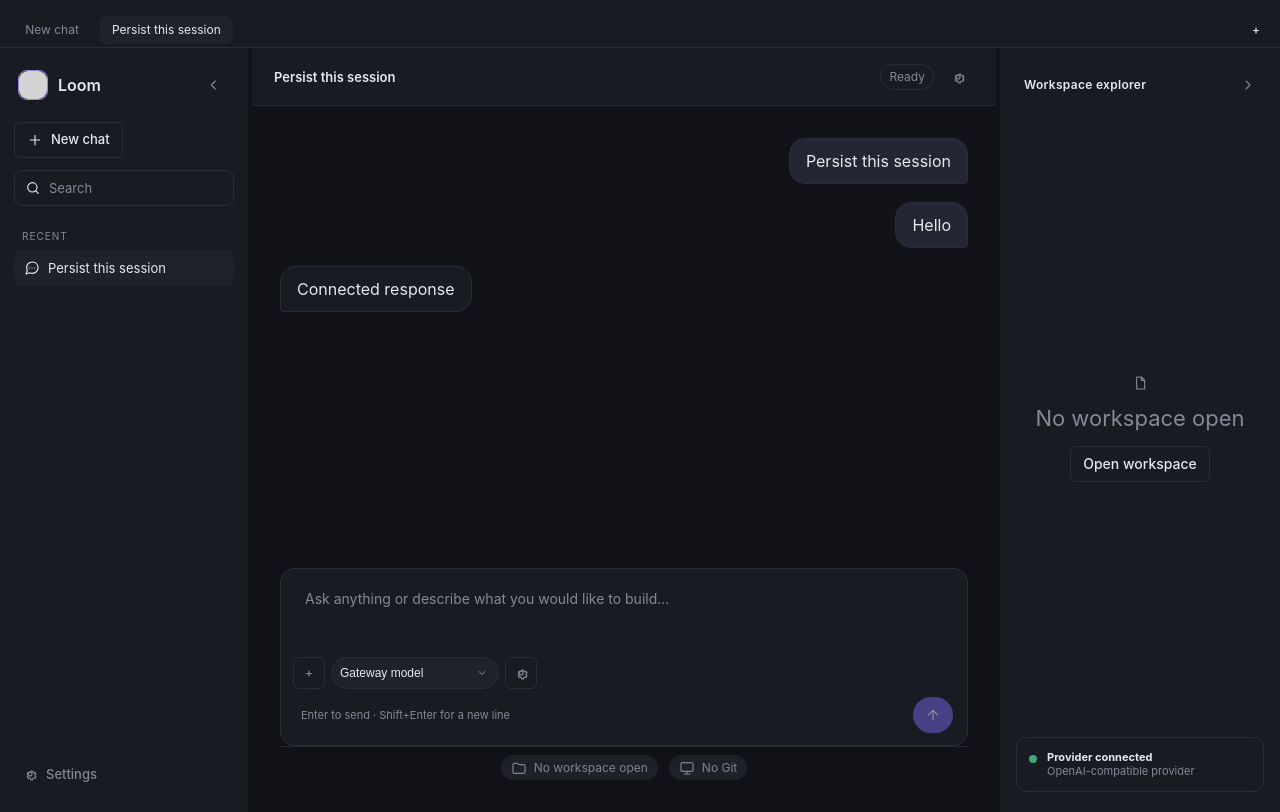
Scenario: MainUI testing › shows a failed run in the active session context
The width and height of the screenshot is (1280, 812).
Expected: the element "Workspace explorer" shows "Provider connected", [1047,750,1152,764]
Type "Try a request" into the text box named "Message Loom" at x=624, y=613, box [293,581,955,645]
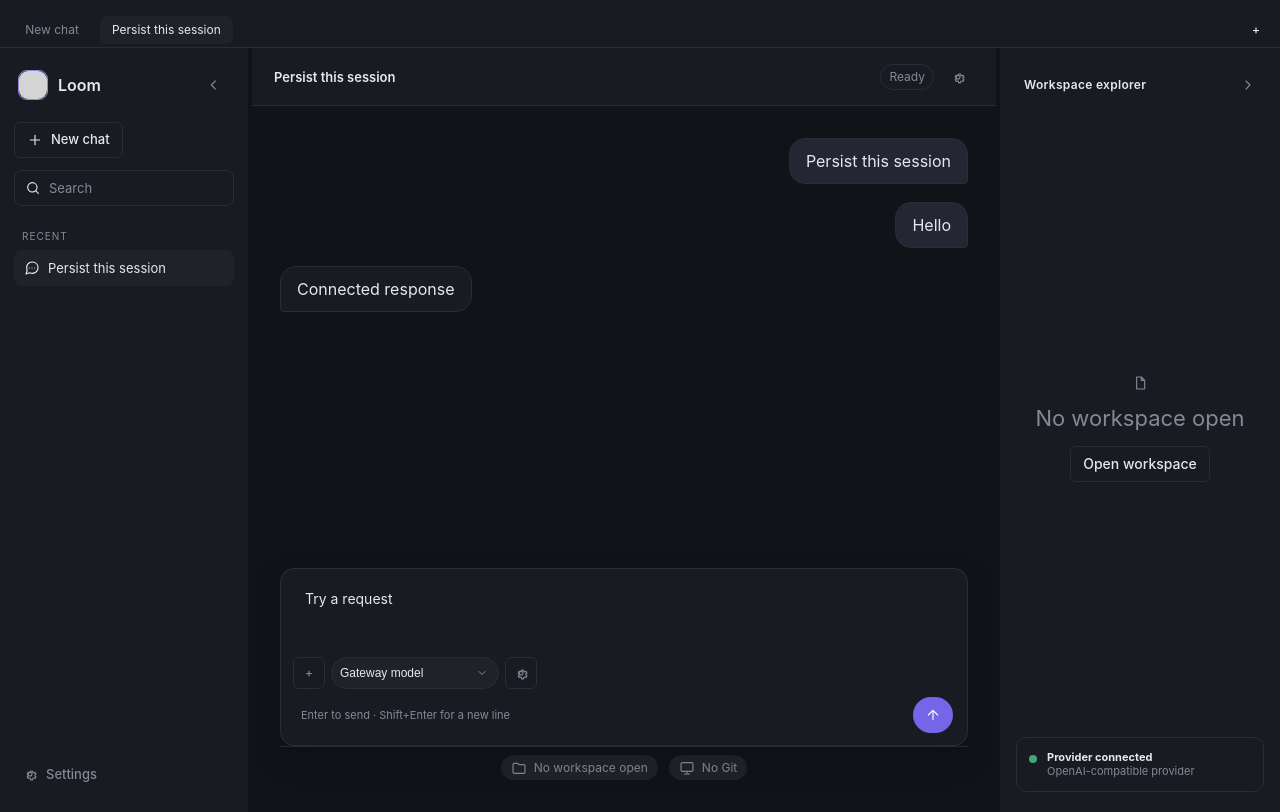
Click the button named "Send message" at x=933, y=715, box [913,697,953,733]
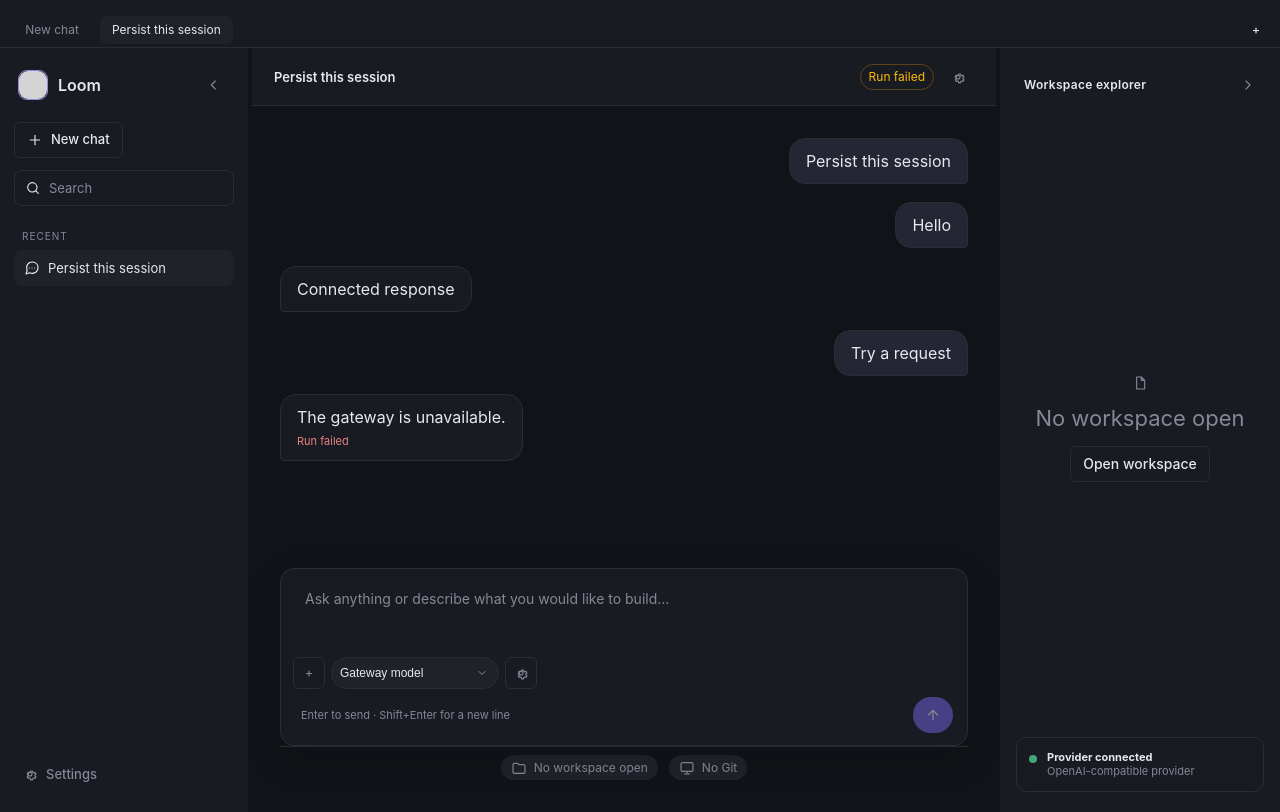
Expected: the header named "Session context" shows "Run failed", [869,68,925,84]
Expected: the element named "Messages" shows "The gateway is unavailable.", [297,407,506,427]
